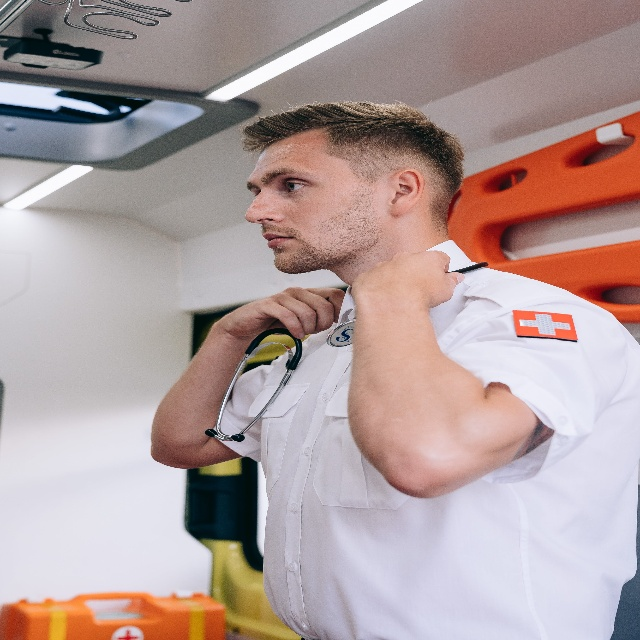Sin_guantes: (219, 278, 356, 343), (347, 250, 467, 313)
